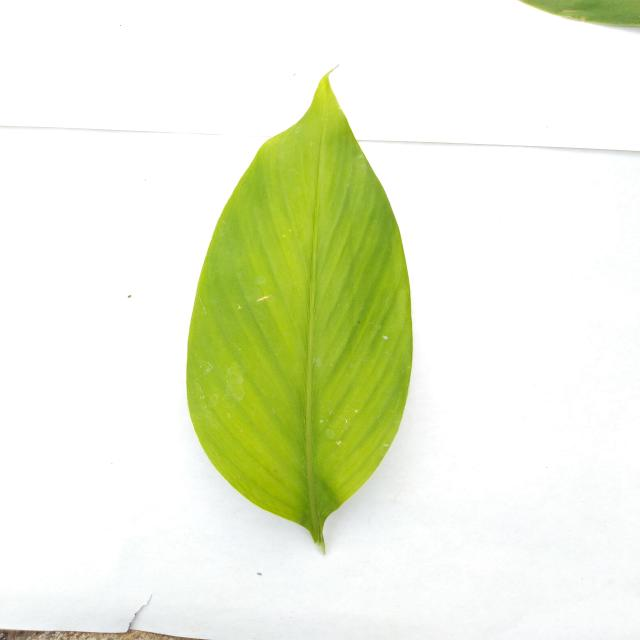turmeric: (187, 74, 412, 550)
